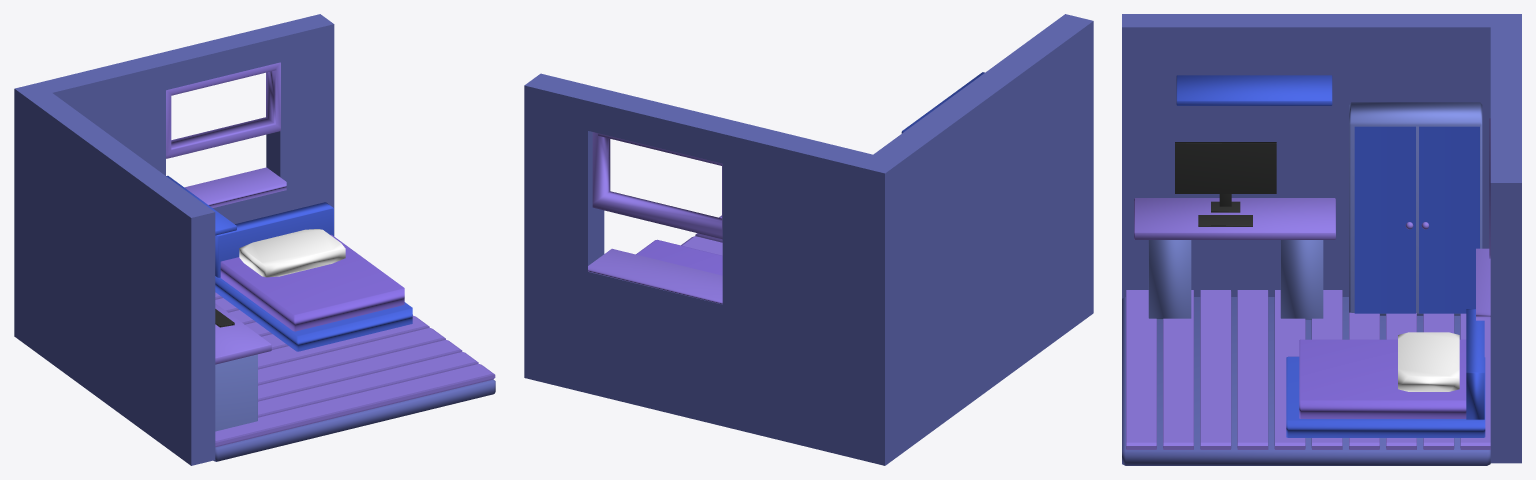
Rendered from bedroom.glb.
3 renders of one model, left to right at view 1: azimuth 30°, elevation 25°; view 2: azimuth 150°, elevation 25°; view 3: azimuth 270°, elevation 25°, orthographic. The views are drawn at different scales.
Visible parts, largest first — view 1: Cubo, Piano.004, Cubo.005, Piano.001, Cubo.001, Cubo.014, Cubo.007, Cubo.006, Piano.002, Cubo.010, Piano; view 2: Cubo, Cubo.014, Cubo.010, Cubo.005, Piano.004; view 3: Cubo, Piano.004, Cubo.009, Piano.001, Cubo.005, Piano, Cubo.008, Cubo.002, Piano.003, Cubo.001, Cubo.007, Piano.002 (+4 smaller).
Boxes of the visible parts, left/top/right/bottom form: Cubo: left=14, top=14, right=334, bottom=465; Piano.004: left=215, top=292, right=495, bottom=447; Cubo.005: left=220, top=234, right=404, bottom=331; Piano.001: left=213, top=379, right=495, bottom=461; Cubo.001: left=215, top=276, right=412, bottom=351; Cubo.014: left=166, top=62, right=280, bottom=158; Cubo.007: left=239, top=229, right=345, bottom=277; Cubo.006: left=215, top=202, right=333, bottom=277; Piano.002: left=215, top=354, right=257, bottom=431; Cubo.010: left=184, top=167, right=286, bottom=207; Piano: left=215, top=303, right=271, bottom=364; Cubo: left=524, top=14, right=1093, bottom=465; Cubo.014: left=592, top=132, right=722, bottom=239; Cubo.010: left=588, top=248, right=722, bottom=304; Cubo.005: left=636, top=239, right=722, bottom=275; Piano.004: left=681, top=215, right=722, bottom=255; Cubo: left=1122, top=14, right=1521, bottom=463; Piano.004: left=1126, top=290, right=1490, bottom=449; Cubo.009: left=1354, top=126, right=1479, bottom=313; Piano.001: left=1122, top=297, right=1490, bottom=465; Cubo.005: left=1299, top=339, right=1466, bottom=418; Piano: left=1134, top=198, right=1335, bottom=239; Cubo.008: left=1349, top=102, right=1482, bottom=315; Cubo.002: left=1175, top=142, right=1276, bottom=193; Piano.003: left=1176, top=75, right=1332, bottom=105; Cubo.001: left=1286, top=356, right=1485, bottom=437; Cubo.007: left=1398, top=332, right=1459, bottom=391; Piano.002: left=1148, top=240, right=1191, bottom=319.
Size of the model in its own units: 3.96 by 3.11 by 3.96.
